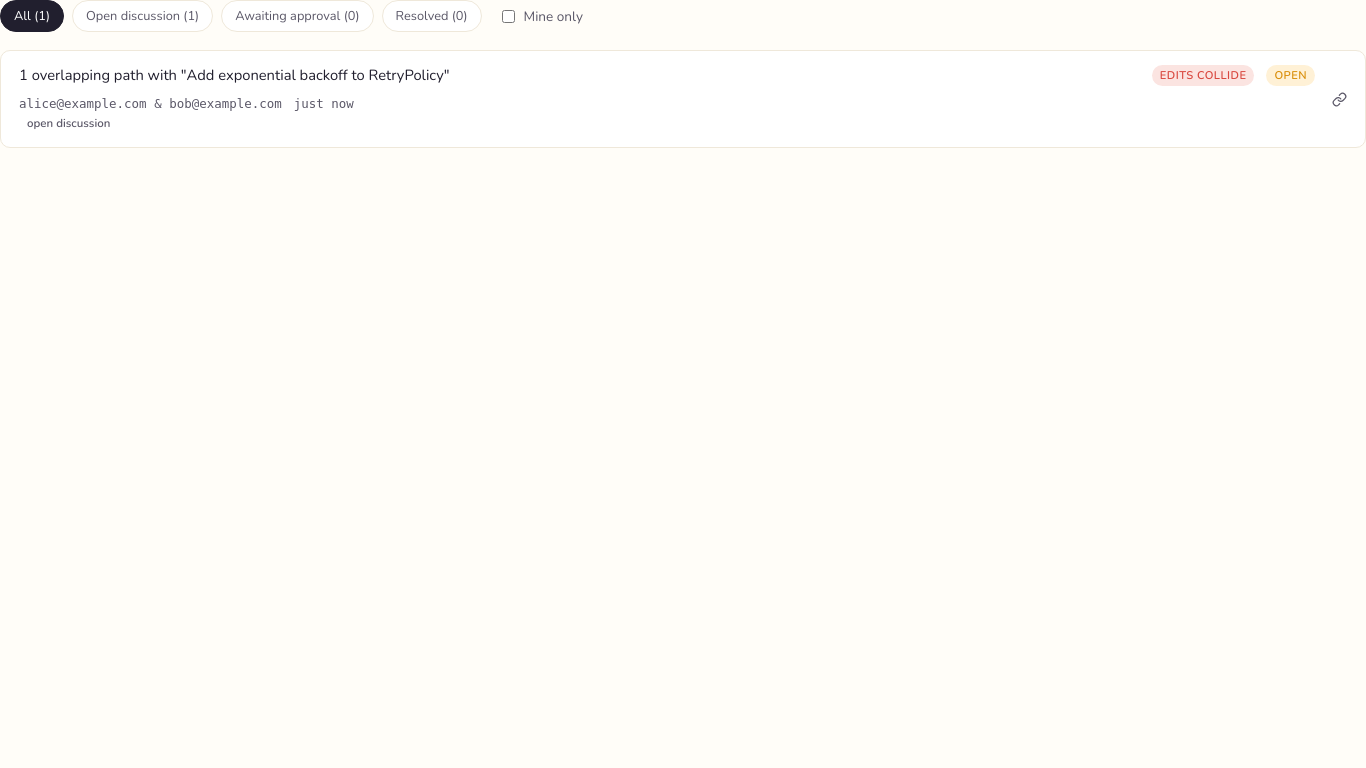
Test: ConflictsView › shows past messages and lets a party reply, appending the new message
Click the button "overlapping path with": (234, 75) [1,51,1365,147]
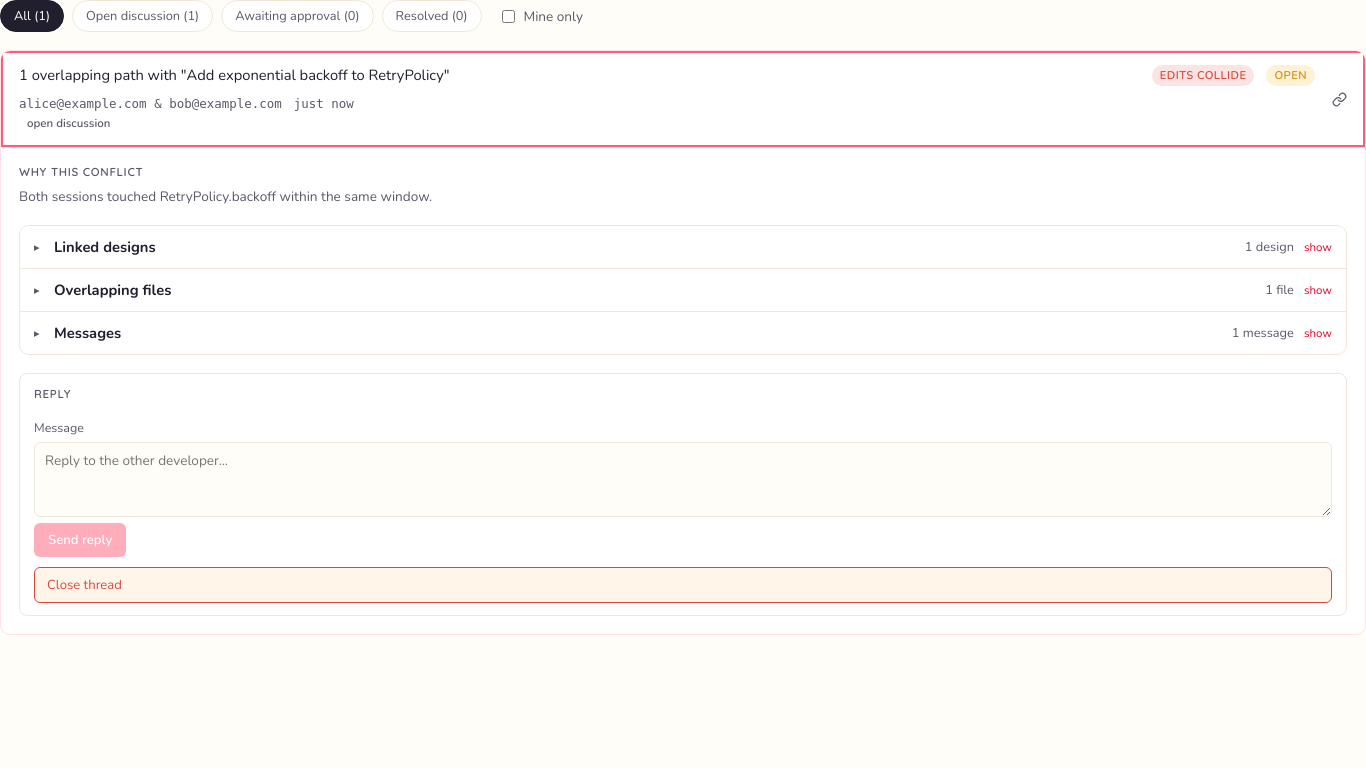
Note: Messages is collapsed by default -- open it before its content is reachable.
Click the button "▸ Messages 1 message show": (88, 333) [20,312,1346,354]
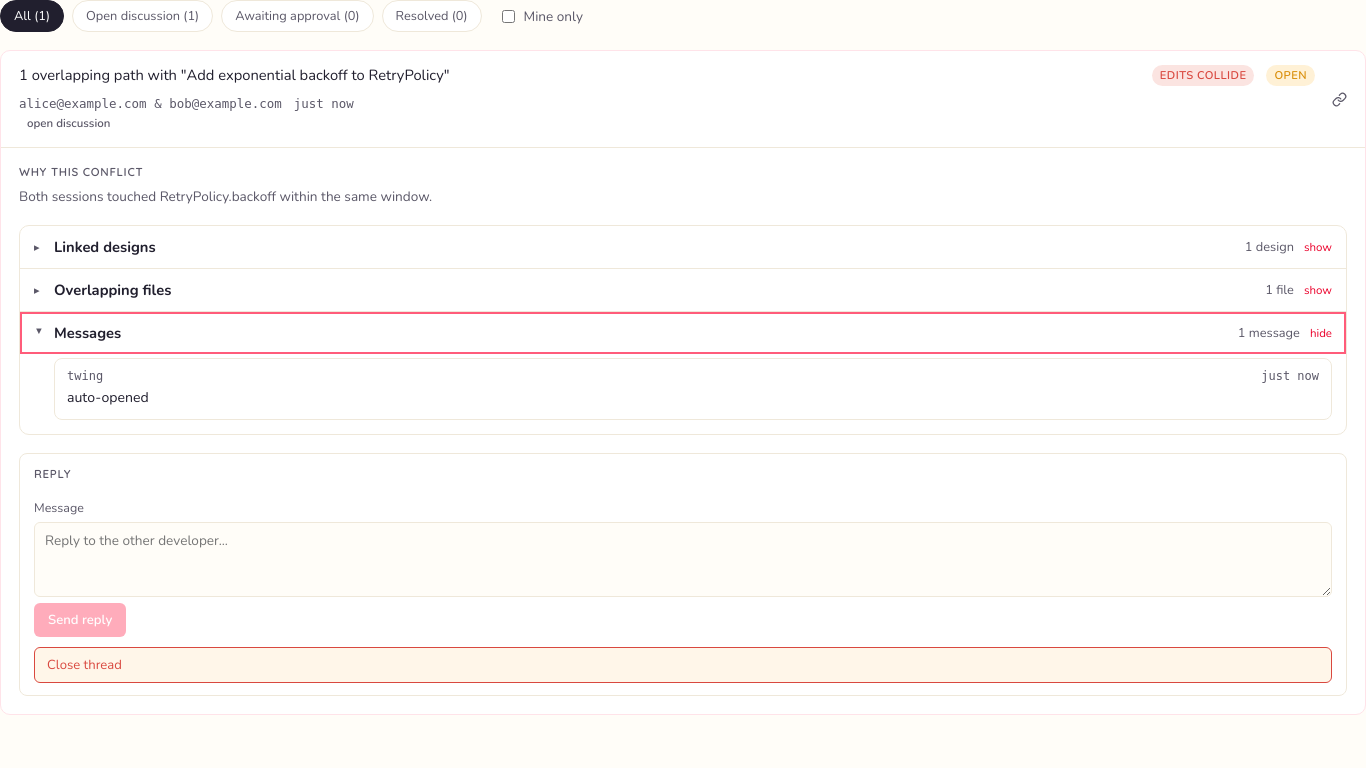
Check: the text "auto-opened" is shown, box [67,388,149,407]
In the text box labelled "Message": (683, 559) [34,522,1332,596], type "Let's coordinate."
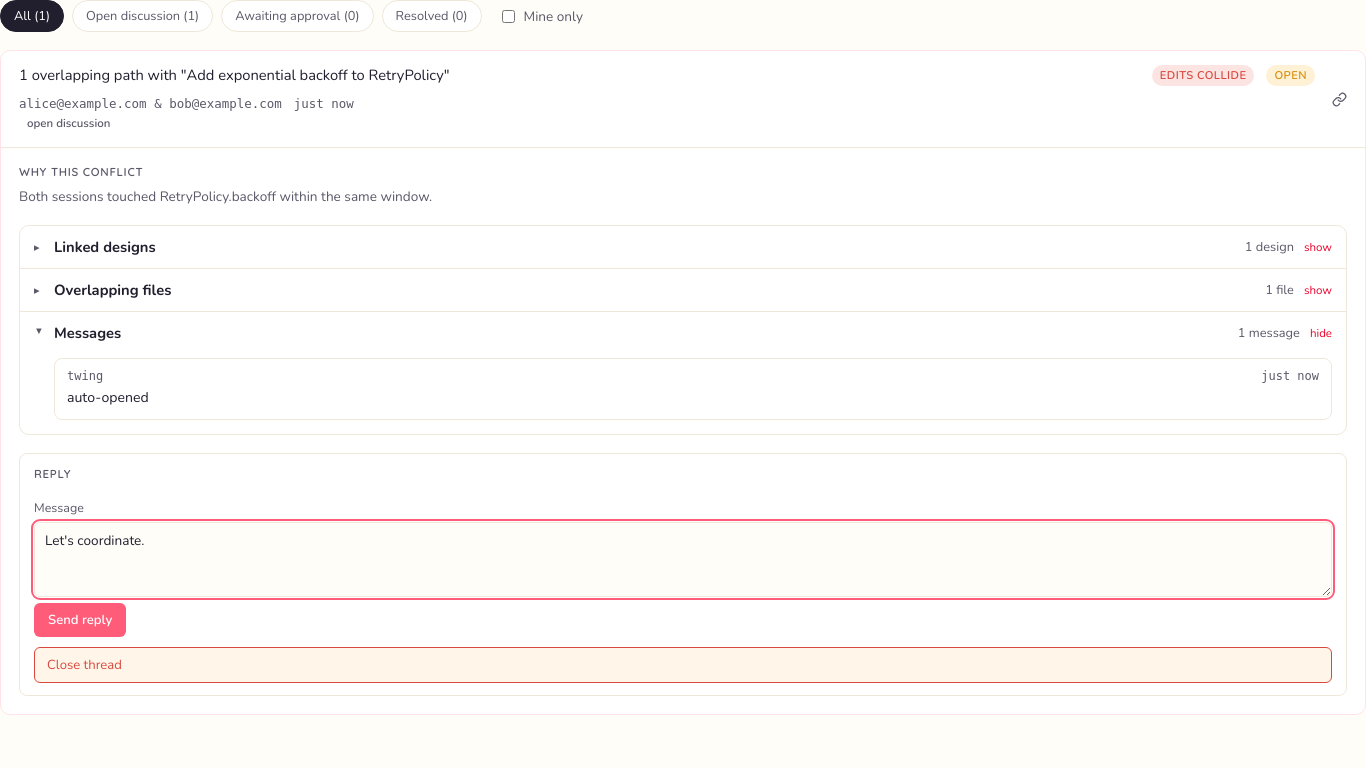
Click the button "Send reply": (80, 620) [34,602,126,636]
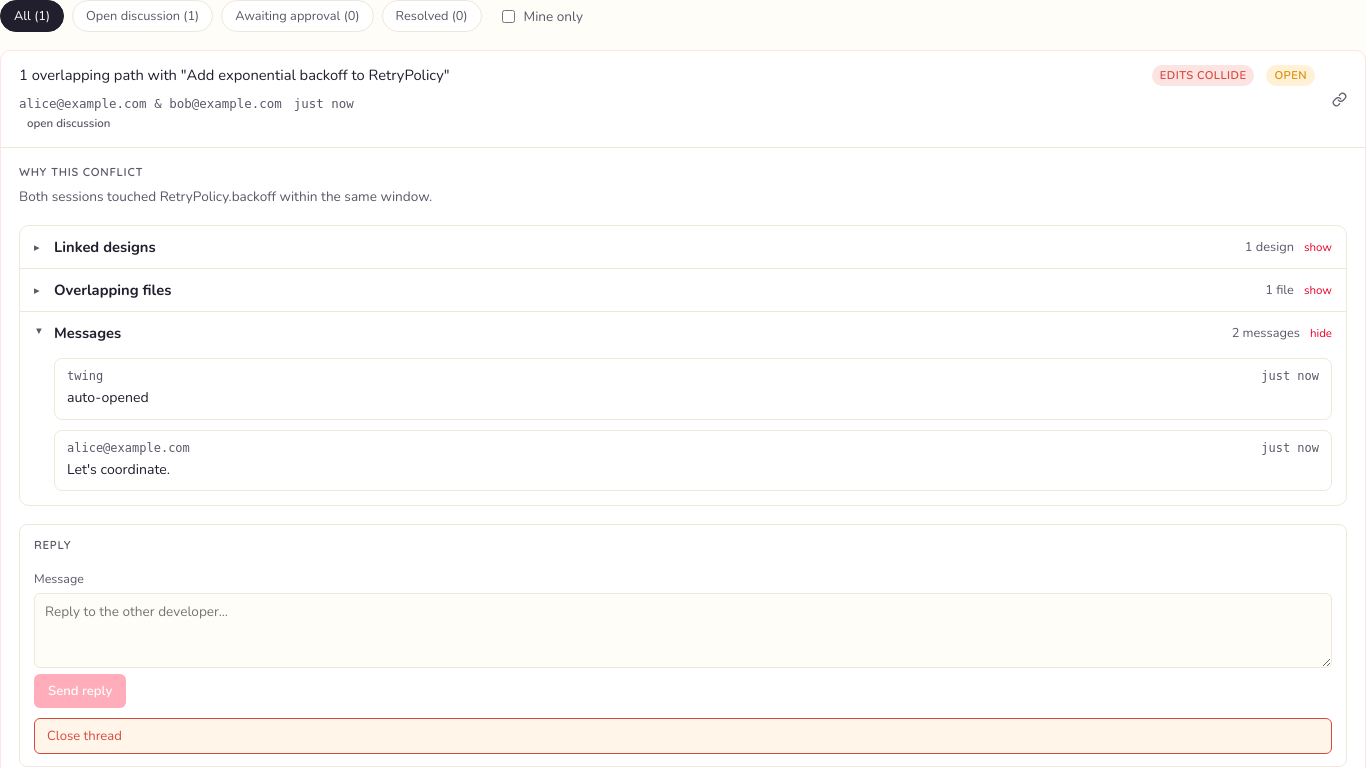
Check: the text "Let's coordinate." is shown, box [67,460,170,478]
